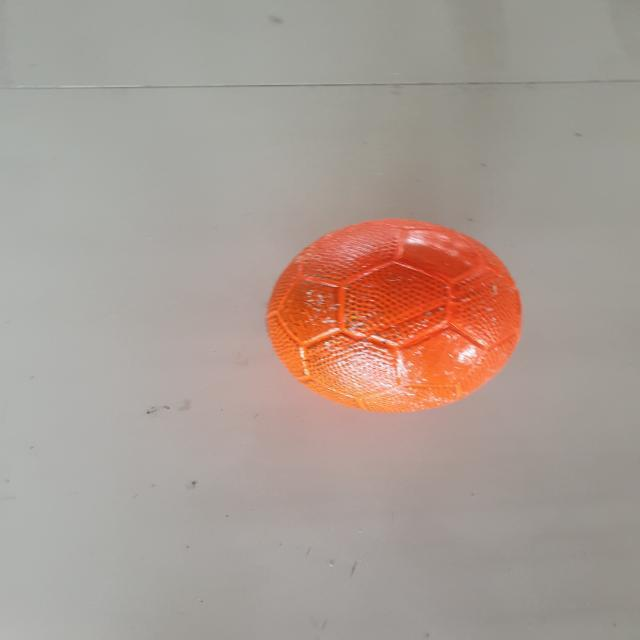bola: (215, 215, 543, 416)
